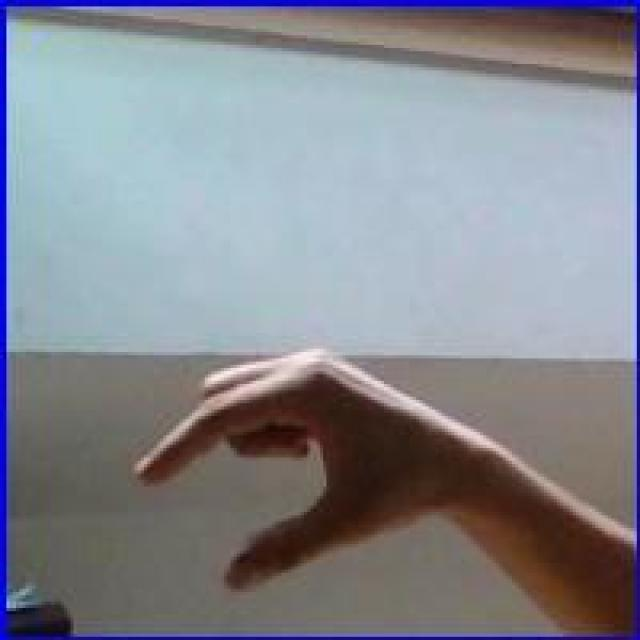Q: (126, 346, 456, 595)
